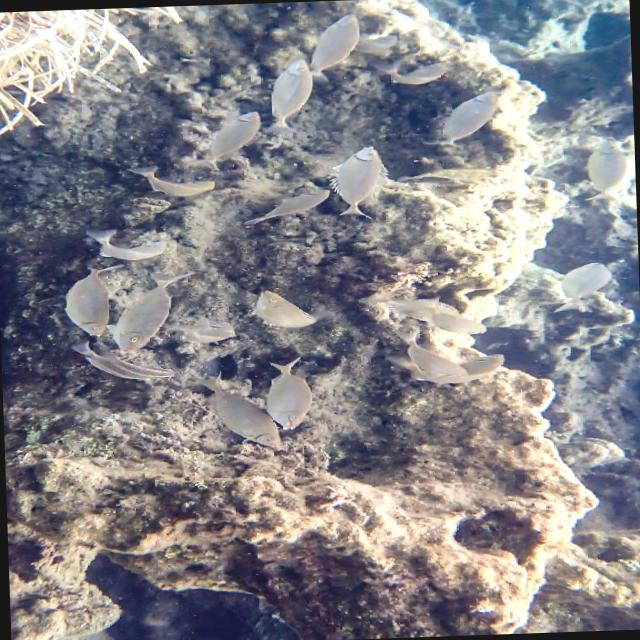Sokar Baligi: (318, 140, 397, 226), (418, 82, 509, 153), (238, 278, 324, 334)
